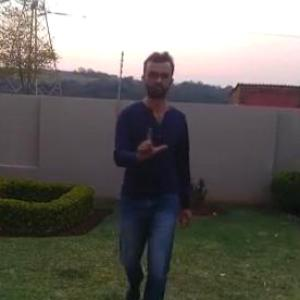land_hand: (129, 121, 171, 164)
